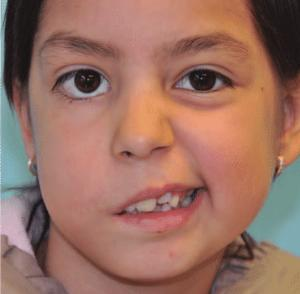strokeEyeMid: (40, 31, 250, 114)
strokeMouthMid: (106, 169, 213, 240)
